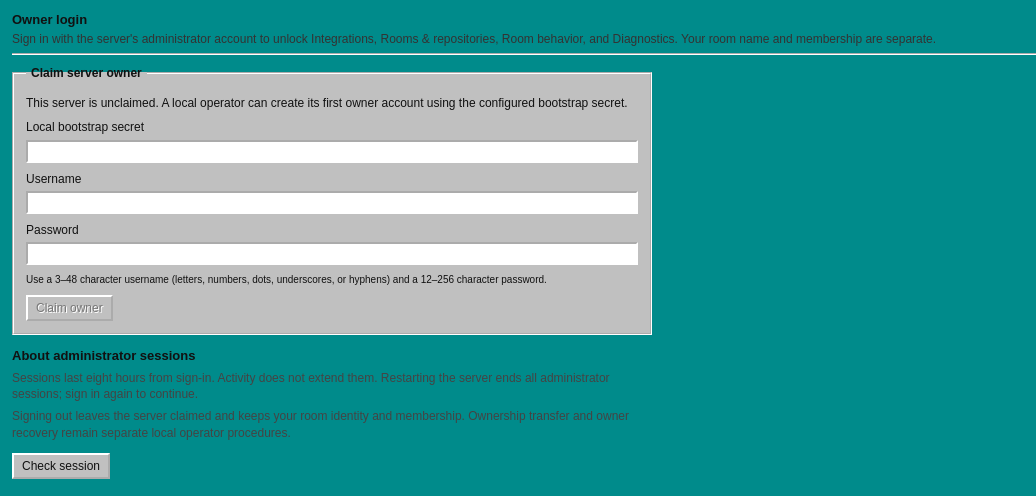
Test: canonical server administration › authenticates claimed=false with Enter and returns to the requested destination
Type "server-owner" into the field labelled "Username" at (332, 202), box x1=26 y1=191 x2=638 y2=214
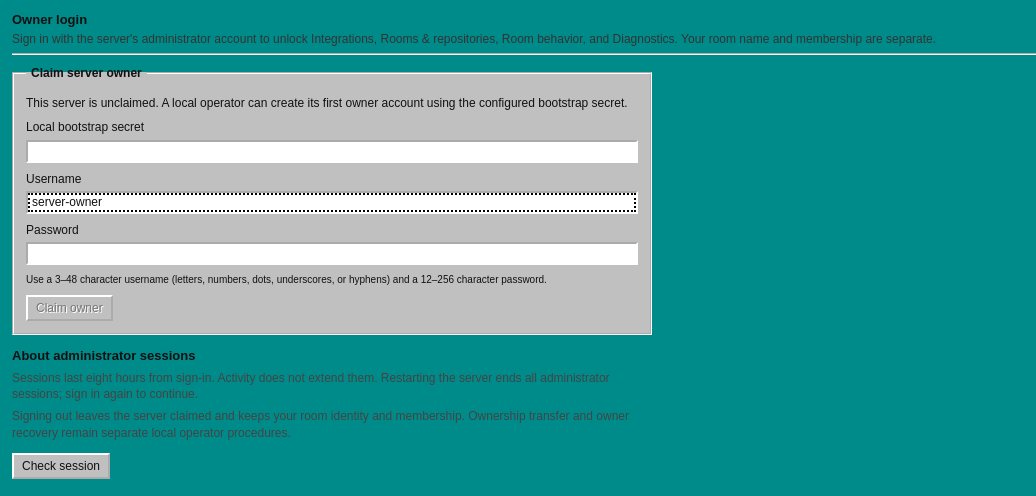
Type "fictional-bootstrap-proof" into the password field labelled "Local bootstrap secret" at (332, 151), box x1=26 y1=140 x2=638 y2=163
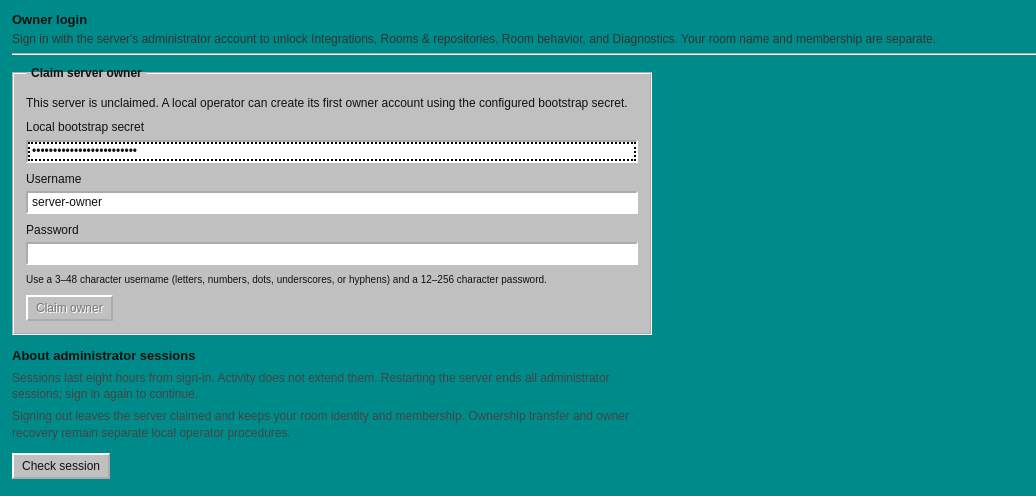
Type "fictional-password" into the password field labelled "Password" at (332, 254), box x1=26 y1=242 x2=638 y2=265
Then press Enter
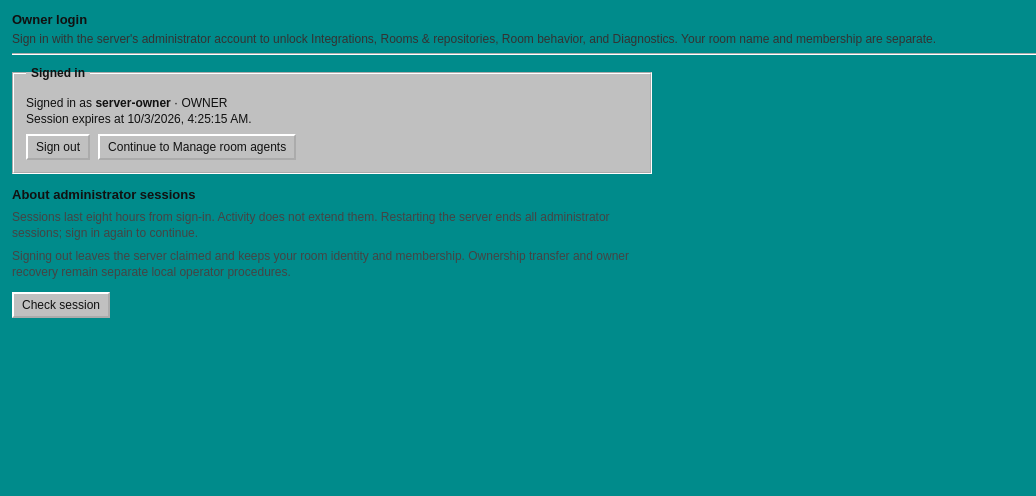
Now the text "server-owner" is shown, box x1=95 y1=96 x2=171 y2=110
Now the label labelled "Password" is gone
